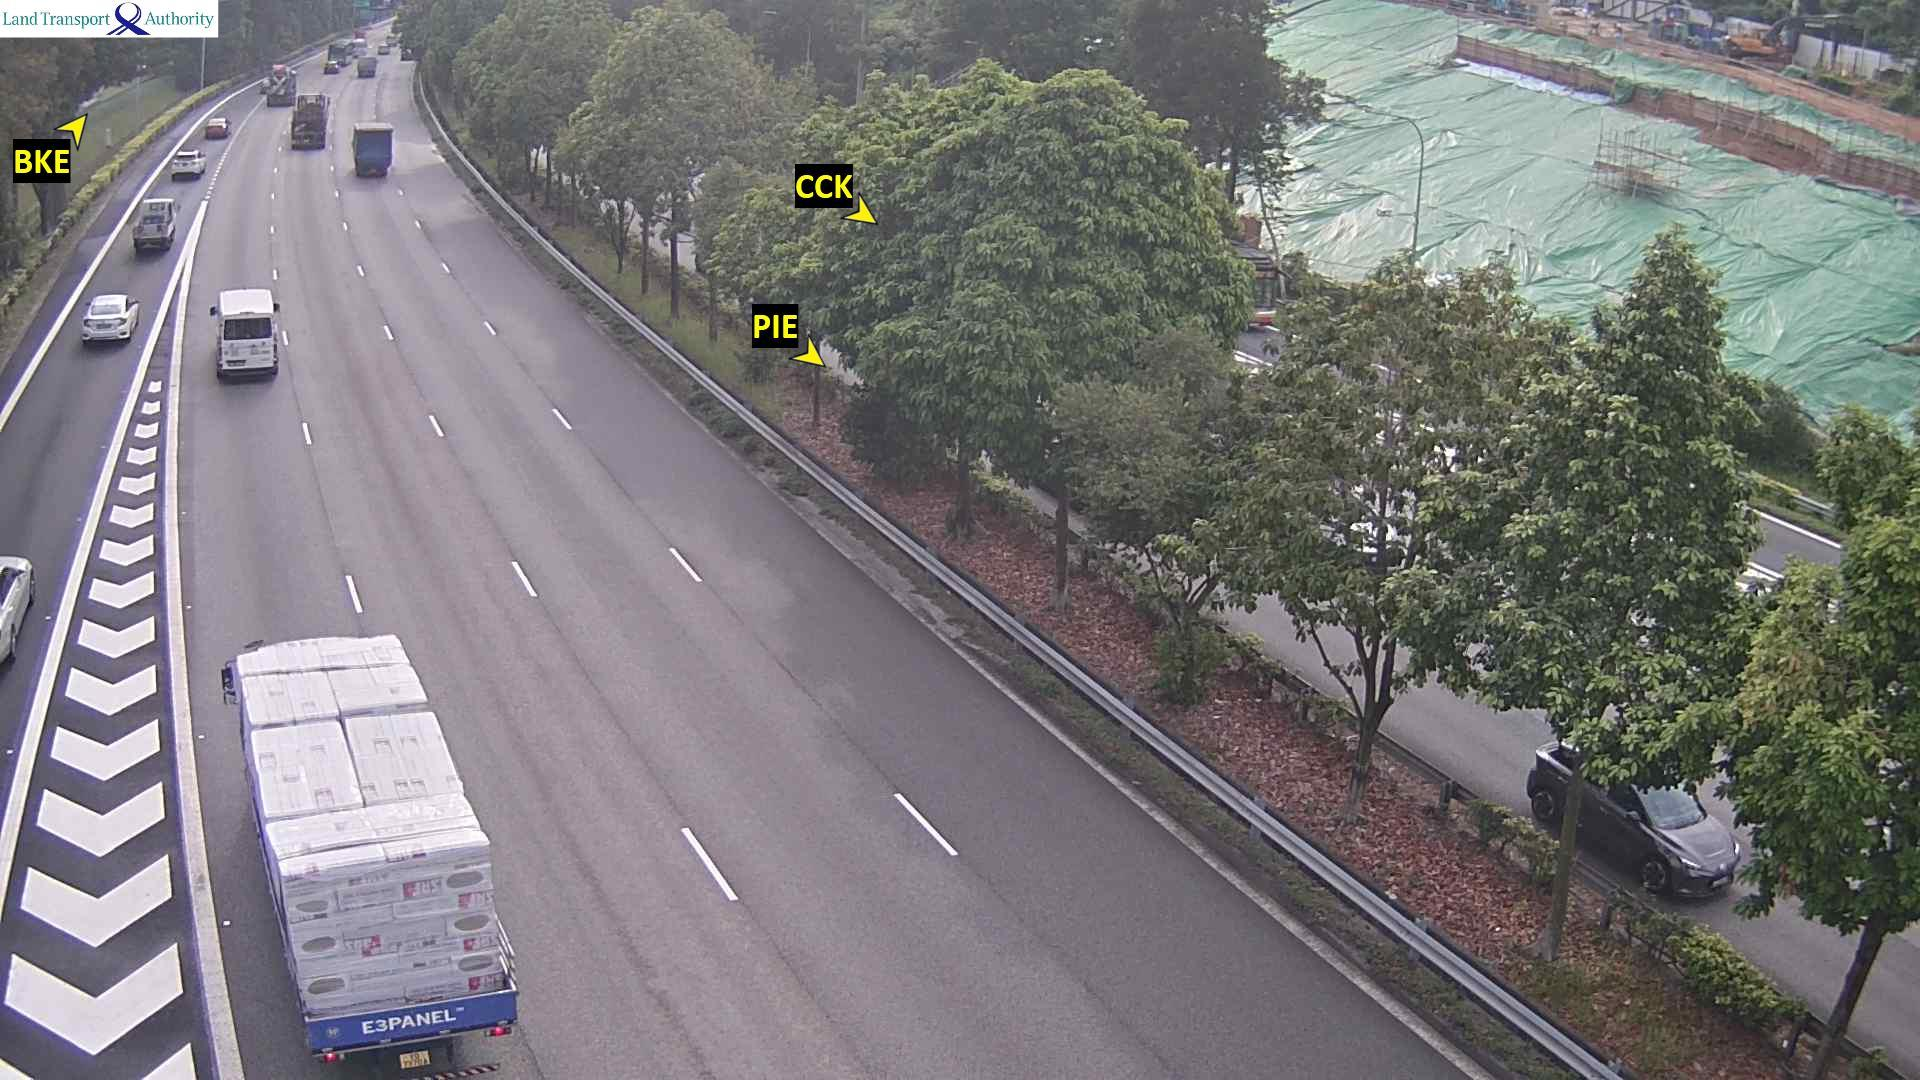bus: (1244, 241, 1286, 332)
cars: (1524, 732, 1741, 899), (208, 287, 280, 381), (0, 555, 33, 667), (79, 291, 140, 343), (131, 196, 178, 252), (169, 146, 206, 178), (1549, 0, 1600, 18), (204, 113, 229, 138), (356, 53, 376, 76), (349, 36, 367, 51), (400, 44, 414, 61), (375, 41, 390, 55), (322, 59, 339, 73), (258, 76, 272, 94)
trucks: (222, 630, 520, 1072), (351, 120, 394, 177), (289, 94, 328, 149), (266, 65, 298, 105), (331, 37, 348, 63)
